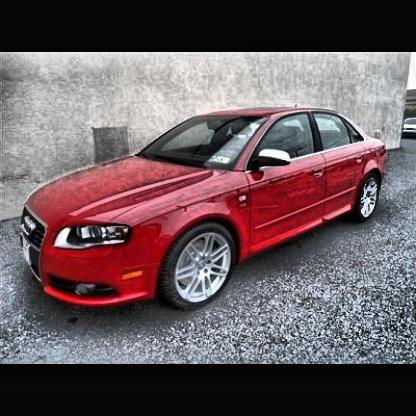Audi S4 Sedan 2007: (19, 126, 386, 320)
